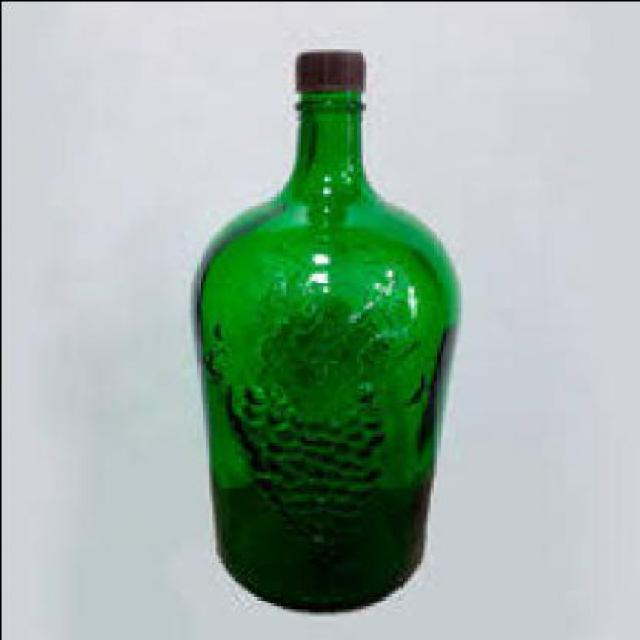GLASS: (192, 89, 454, 608)
PLASTIC: (290, 48, 362, 86)
